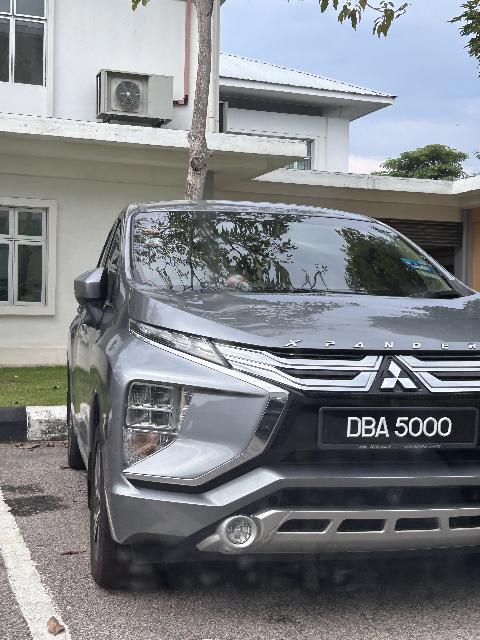DBA5000: (318, 411, 478, 450)
License_Plate: (318, 411, 478, 450)
car: (67, 200, 480, 601)
